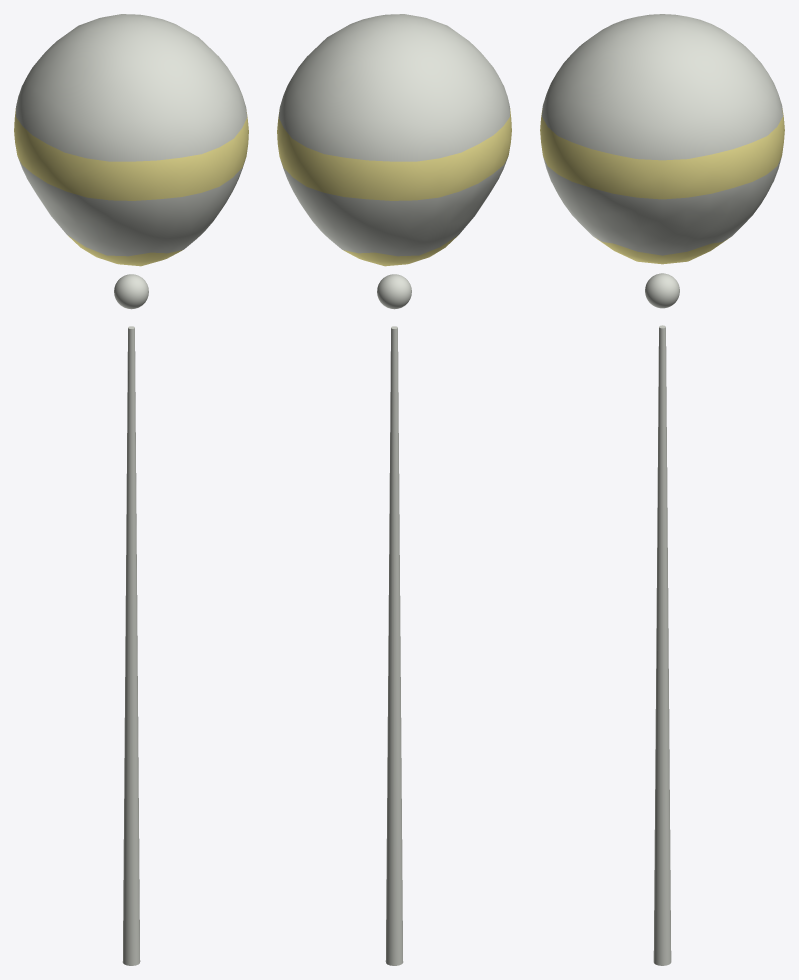
Rendered from balloon1.fbx.
3 views of the same model, side by side, from view 1: azimuth 30°, elevation 25°; view 2: azimuth 150°, elevation 25°; view 3: azimuth 270°, elevation 25° (orthographic).
Visible parts, largest first — view 1: Cone001; view 2: Cone001; view 3: Cone001.
Boxes of the visible parts, <box> form: Cone001: <box>14,14,248,965</box>; Cone001: <box>277,14,511,965</box>; Cone001: <box>540,14,784,965</box>.
Size of the model in its own units: 92.64 by 414 by 97.94.
